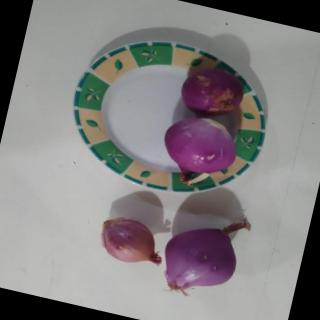Bawang Merah: (155, 201, 255, 310), (153, 109, 245, 194), (91, 209, 171, 274), (175, 60, 252, 125)
